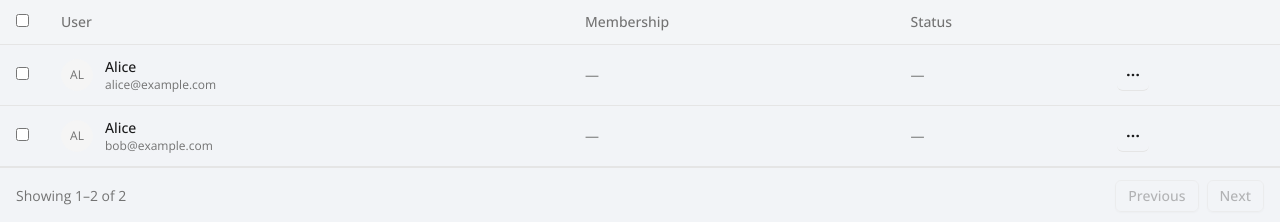
it: UserTable › selects all rows when select-all checkbox is clicked
This screenshot has width=1280, height=222.
Click the checkbox named "Select all": (22, 20) [16, 14, 29, 27]
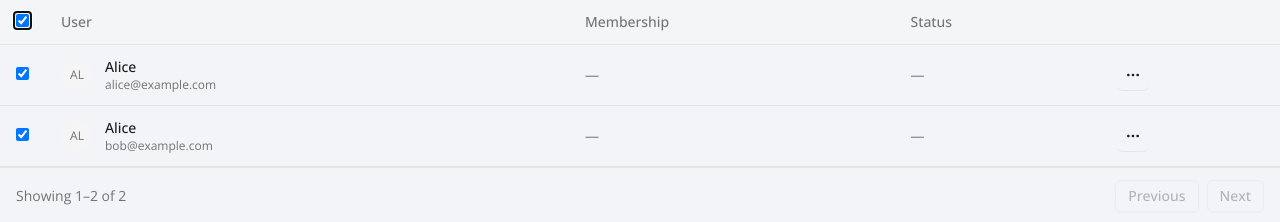
Expected: the checkbox named "Select Alice" in the row of "alice@example.com" is checked, [16, 67, 29, 80]
Expected: the checkbox named "Select Alice" in the row of "bob@example.com" is checked, [16, 128, 29, 141]
